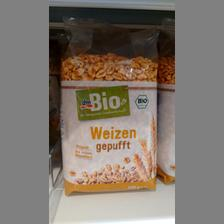Cerealien: (57, 42, 159, 196)
